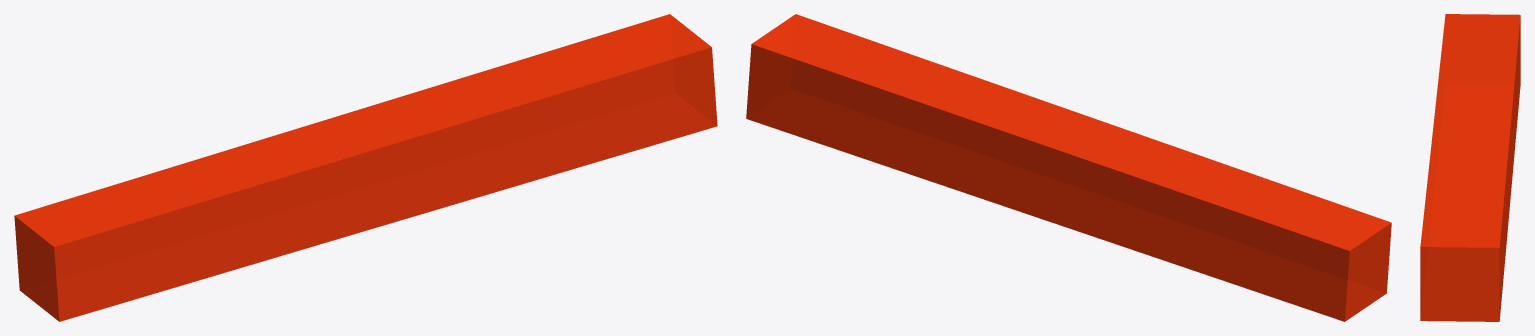
Rendered from Event_420094457_EErechit_38.fbx.
3 views of the same model, side by side, from view 1: azimuth 30°, elevation 25°; view 2: azimuth 150°, elevation 25°; view 3: azimuth 270°, elevation 25° (orthographic). The views are drawn at different scales.
Visible parts, largest first — view 1: Model; view 2: Model; view 3: Model.
Boxes of the visible parts, x1,y1,x2,y2 form: Model: (14,14,717,321); Model: (746,14,1391,321); Model: (1420,14,1520,321).
Bounding box in the file's own units: 0.6483 × 0.123 × 0.0968.
